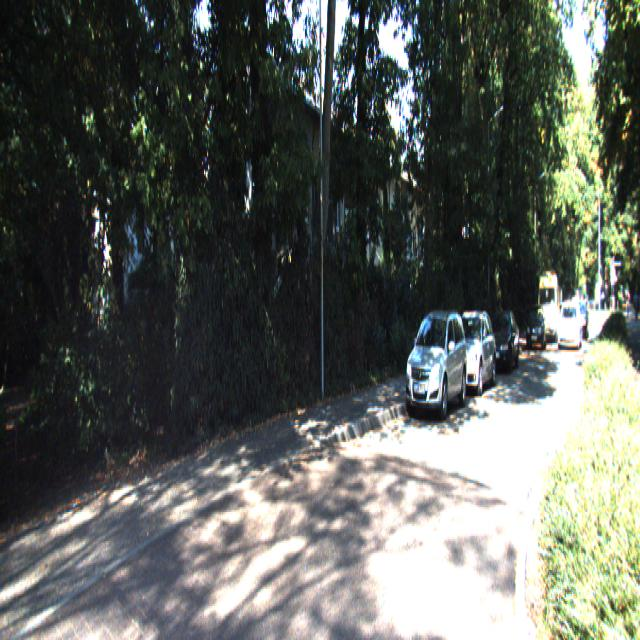Car: (404, 306, 468, 424), (445, 310, 497, 398), (487, 306, 520, 372), (537, 267, 560, 341), (558, 299, 582, 348), (526, 303, 546, 351)
